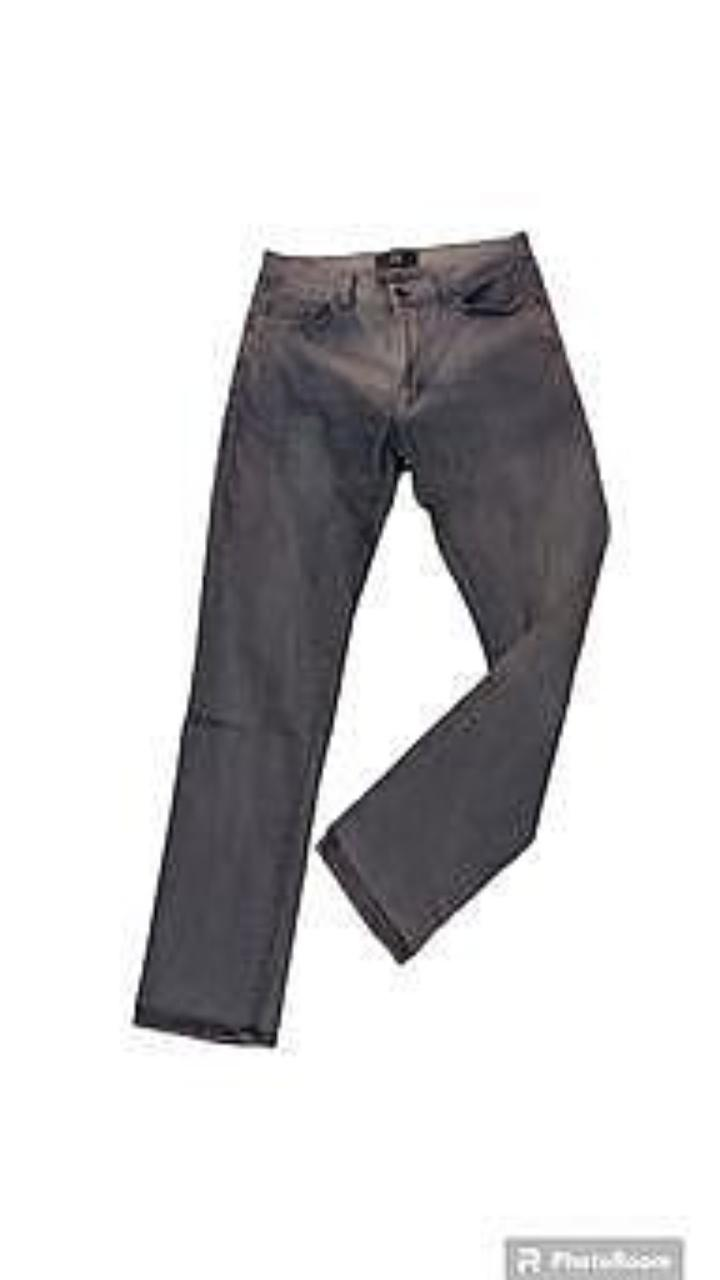Jeans: (134, 232, 608, 1044)
